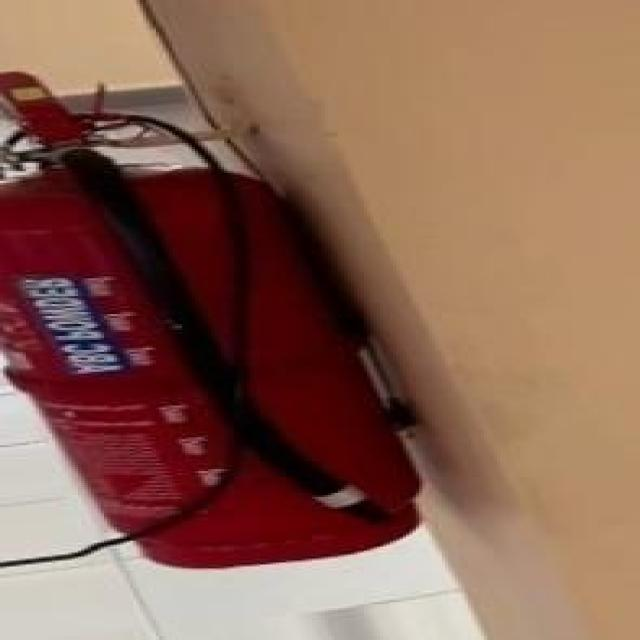fire_extinguisher: (0, 63, 435, 572)
